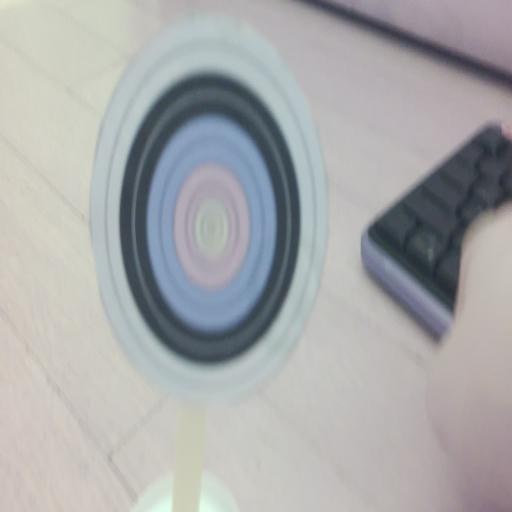target: (90, 19, 327, 400)
